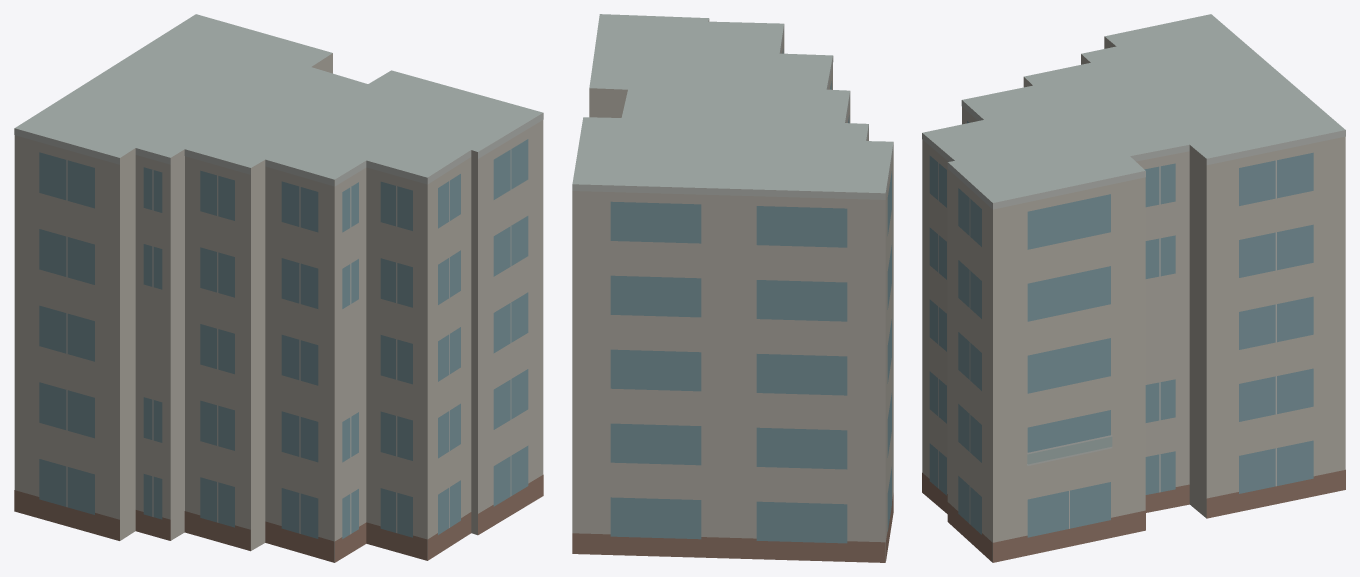
The model's file is survey-upis-32705103.glb.
3 renders of one model, left to right at view 1: azimuth 30°, elevation 25°; view 2: azimuth 150°, elevation 25°; view 3: azimuth 270°, elevation 25°, orthographic. The views are drawn at different scales.
Visible parts, largest first — view 1: survey-upis-32705103.tmp; view 2: survey-upis-32705103.tmp; view 3: survey-upis-32705103.tmp.
Part boxes in pixels (x1,y1,x2,y2): survey-upis-32705103.tmp: [14, 14, 543, 562]; survey-upis-32705103.tmp: [572, 14, 893, 562]; survey-upis-32705103.tmp: [922, 14, 1345, 562].
Bounding box in the file's own units: 15.23 × 13.5 × 14.42.
